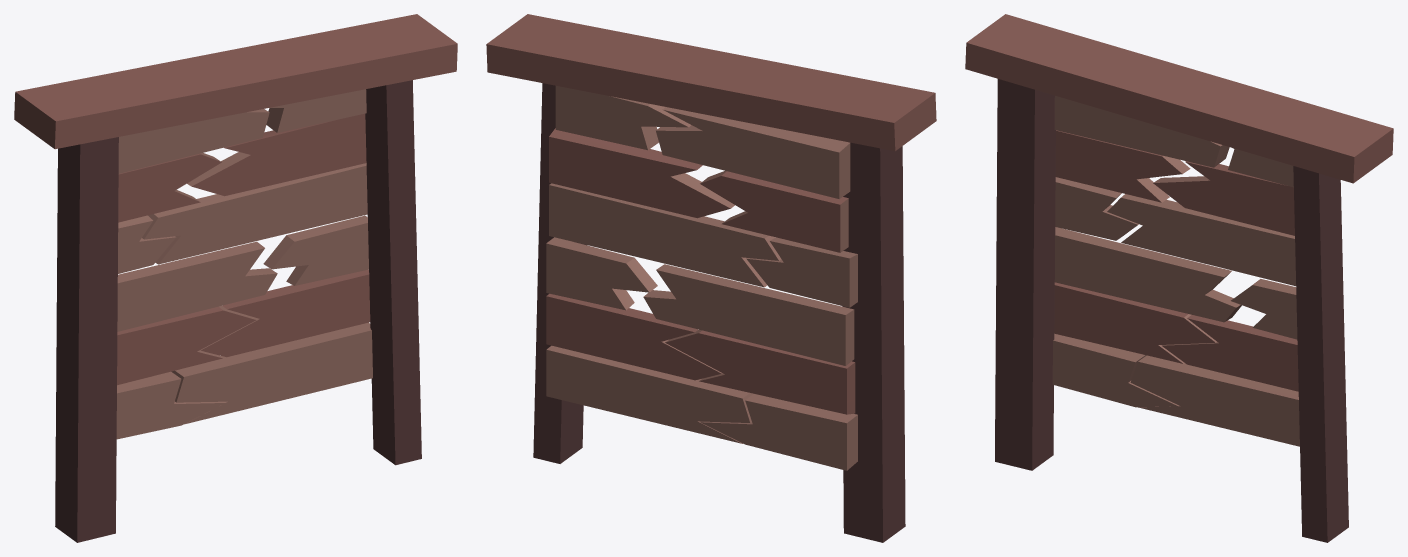
Rendered from LightRoseWoodMechSmallSmashableEntrance1.fbx.
3 views of the same model, side by side, from view 1: azimuth 30°, elevation 25°; view 2: azimuth 150°, elevation 25°; view 3: azimuth 330°, elevation 25° (orthographic). The views are drawn at different scales.
Parts seen in each view (by area): view 1: Frame__3_, Frame__2_, Frame__1_, Planks_053__1__detach__1_, Planks_053__1__detach_4, Planks_053__1__detach, Planks_053__1__detach_3__1_, Planks_053__1__detach_2, Planks_053__1__detach_3, Planks_053__1__detach_4__1_, Planks_053__1__detach_1, Planks_053__1__detach_5 (+3 smaller); view 2: Frame__3_, Frame__2_, Planks_053__1__detach__1_, Planks_053__1__detach, Planks_053__1__detach_4, Planks_053__1__detach_4__1_, Planks_053__1__detach_3__1_, Planks_053__1__detach_3, Planks_053__1__detach_2, Planks_053__1__detach_2__1_, Planks_053__1__detach_5, Frame__1_ (+3 smaller); view 3: Frame__3_, Frame__2_, Frame__1_, Planks_053__1__detach, Planks_053__1__detach__1_, Planks_053__1__detach_4, Planks_053__1__detach_3, Planks_053__1__detach_3__1_, Planks_053__1__detach_2, Planks_053__1__detach_2__1_, Planks_053__1__detach_4__1_, Planks_053__1__detach_5 (+3 smaller).
Part boxes in pixels (left/top/right/bottom): Frame__3_: left=14, top=14, right=457, bottom=149; Frame__2_: left=55, top=137, right=118, bottom=542; Frame__1_: left=365, top=80, right=421, bottom=465; Planks_053__1__detach__1_: left=142, top=163, right=367, bottom=264; Planks_053__1__detach_4: left=171, top=322, right=372, bottom=424; Planks_053__1__detach: left=117, top=241, right=277, bottom=331; Planks_053__1__detach_3__1_: left=187, top=113, right=366, bottom=196; Planks_053__1__detach_2: left=200, top=269, right=370, bottom=357; Planks_053__1__detach_3: left=117, top=305, right=256, bottom=385; Planks_053__1__detach_4__1_: left=118, top=109, right=269, bottom=173; Planks_053__1__detach_1: left=263, top=215, right=368, bottom=285; Planks_053__1__detach_5: left=116, top=371, right=225, bottom=439; Frame__3_: left=486, top=14, right=936, bottom=151; Frame__2_: left=842, top=142, right=905, bottom=542; Planks_053__1__detach__1_: left=549, top=183, right=781, bottom=287; Planks_053__1__detach: left=643, top=264, right=854, bottom=365; Planks_053__1__detach_4: left=546, top=345, right=753, bottom=443; Planks_053__1__detach_4__1_: left=656, top=107, right=850, bottom=198; Planks_053__1__detach_3__1_: left=549, top=128, right=734, bottom=218; Planks_053__1__detach_3: left=665, top=329, right=855, bottom=414; Planks_053__1__detach_2: left=546, top=293, right=722, bottom=380; Planks_053__1__detach_2__1_: left=700, top=170, right=848, bottom=252; Planks_053__1__detach_5: left=700, top=394, right=857, bottom=470; Frame__1_: left=533, top=83, right=586, bottom=463; Frame__3_: left=965, top=14, right=1393, bottom=183; Frame__2_: left=995, top=79, right=1055, bottom=470; Frame__1_: left=1293, top=166, right=1348, bottom=542; Planks_053__1__detach: left=1054, top=227, right=1241, bottom=322; Planks_053__1__detach__1_: left=1107, top=194, right=1296, bottom=286; Planks_053__1__detach_4: left=1130, top=355, right=1299, bottom=446; Planks_053__1__detach_3: left=1054, top=282, right=1216, bottom=363; Planks_053__1__detach_3__1_: left=1153, top=161, right=1294, bottom=235; Planks_053__1__detach_2: left=1161, top=315, right=1298, bottom=391; Planks_053__1__detach_2__1_: left=1055, top=130, right=1190, bottom=202; Planks_053__1__detach_4__1_: left=1054, top=95, right=1229, bottom=167; Planks_053__1__detach_5: left=1052, top=333, right=1178, bottom=407.
Size of the model in its own units: 210 by 215 by 36.76.
